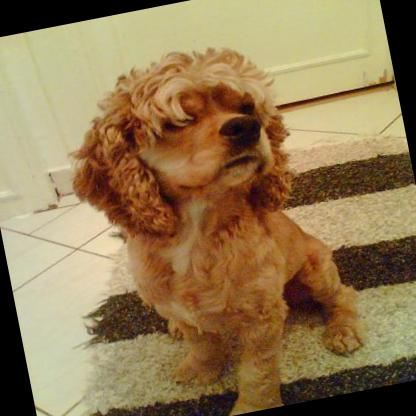cocker_spaniel: (51, 24, 375, 416)
